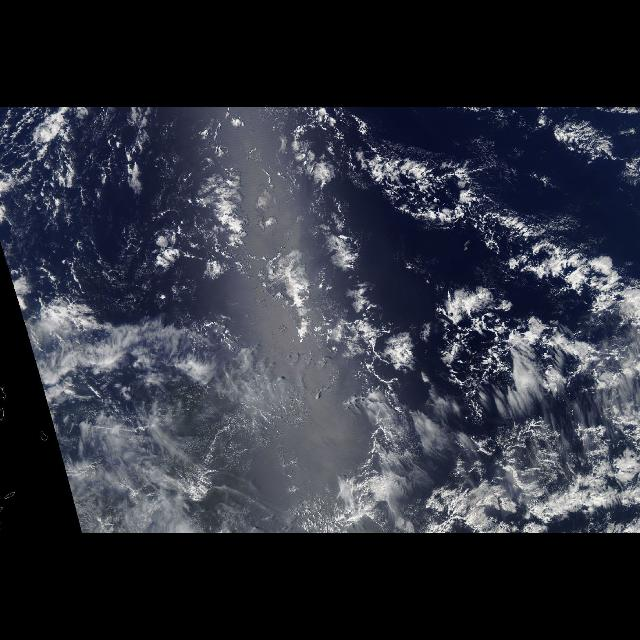Fish: (349, 131, 639, 309)
